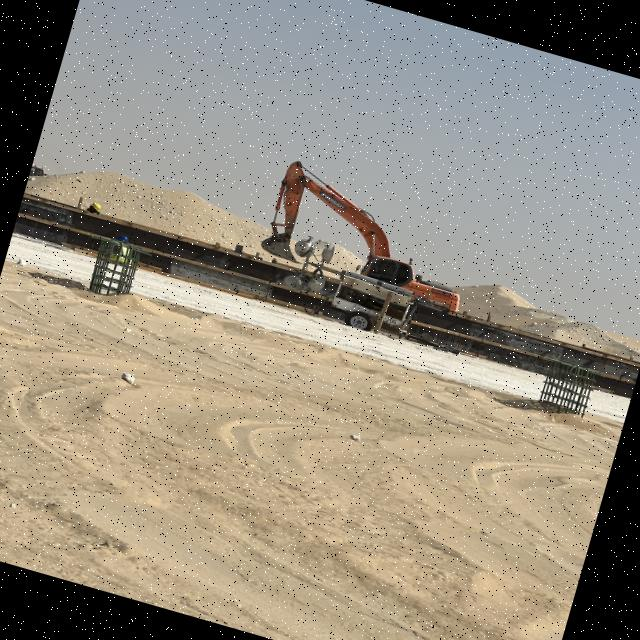Excavator: (253, 152, 487, 318)
